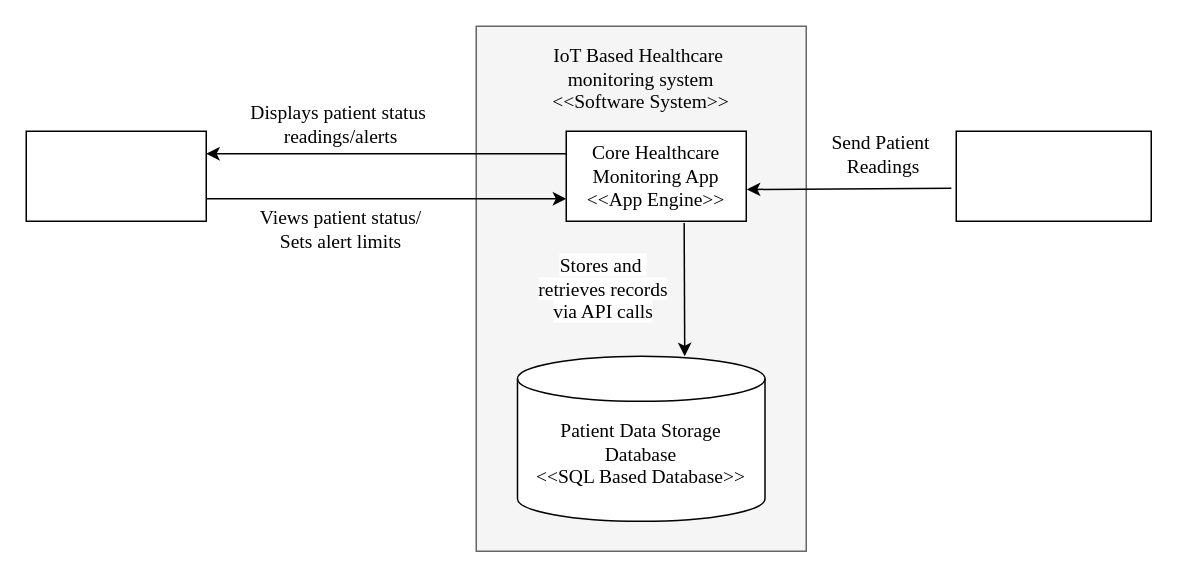
The diagram is 1178 pixels wide and 578 high, and some of its shapes have lost their labels. Here are the shapes that lost their labels. From the top down, the centre of each, then its label:
At point (115, 175): "Healthcare Staff <<person>>".
At point (1053, 175): "IoT Sensors <<External System>>".
